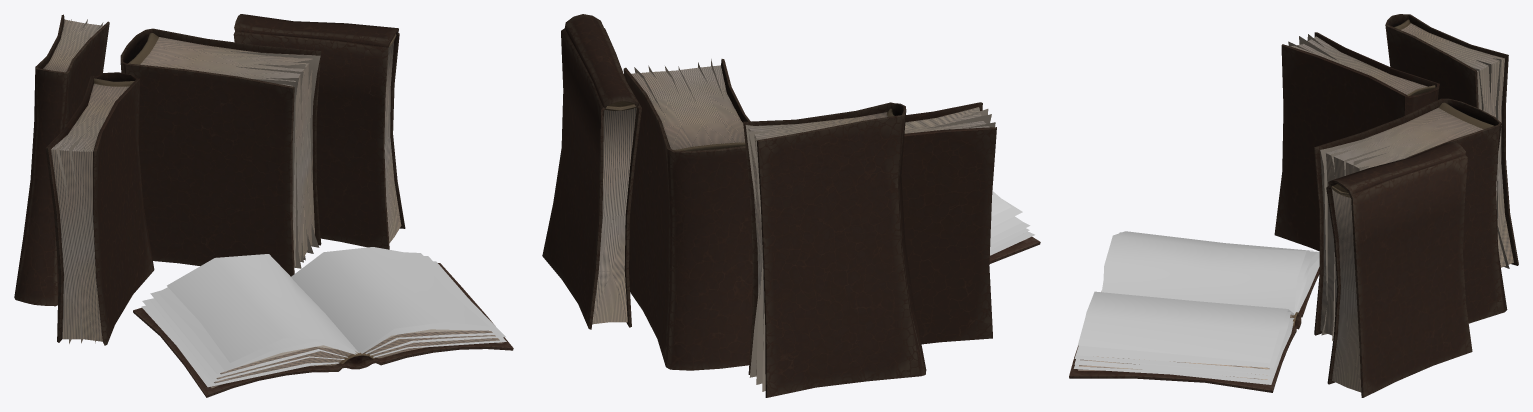
The picture shows the model from 3 angles, left to right: view 1: azimuth 30°, elevation 25°; view 2: azimuth 150°, elevation 25°; view 3: azimuth 270°, elevation 25°; orthographic projection. The views are drawn at different scales.
Visible parts, largest first — view 1: Plane.226_3, openBookPaper_5, LowPo_Book_1_Opt_0, Plane.021_2, Low_Book_02.003_1, book_Op_Opt_6, Plane.227_4; view 2: Low_Book_02.003_1, Plane.226_3, Plane.021_2, LowPo_Book_1_Opt_0, openBookPaper_5, book_Op_Opt_6; view 3: Plane.021_2, openBookPaper_5, Plane.226_3, LowPo_Book_1_Opt_0, Low_Book_02.003_1, book_Op_Opt_6, Plane.227_4.
Part boxes in pixels (<box>): Plane.226_3: <box>120,28,321,276</box>; openBookPaper_5: <box>141,247,506,387</box>; LowPo_Book_1_Opt_0: <box>45,72,154,345</box>; Plane.021_2: <box>233,14,405,249</box>; Low_Book_02.003_1: <box>14,14,109,306</box>; book_Op_Opt_6: <box>133,263,513,397</box>; Plane.227_4: <box>228,51,320,268</box>; Low_Book_02.003_1: <box>743,102,926,397</box>; Plane.226_3: <box>623,59,752,370</box>; Plane.021_2: <box>542,14,641,329</box>; LowPo_Book_1_Opt_0: <box>901,102,996,344</box>; openBookPaper_5: <box>990,191,1034,255</box>; book_Op_Opt_6: <box>989,236,1040,263</box>; Plane.021_2: <box>1326,141,1472,397</box>; openBookPaper_5: <box>1073,231,1319,384</box>; Plane.226_3: <box>1314,98,1507,335</box>; LowPo_Book_1_Opt_0: <box>1274,32,1439,251</box>; Low_Book_02.003_1: <box>1385,14,1518,268</box>; book_Op_Opt_6: <box>1069,267,1319,392</box>; Plane.227_4: <box>1320,137,1413,340</box>.
Bounding box in the file's own units: 0.5647 × 0.3257 × 0.5921.
